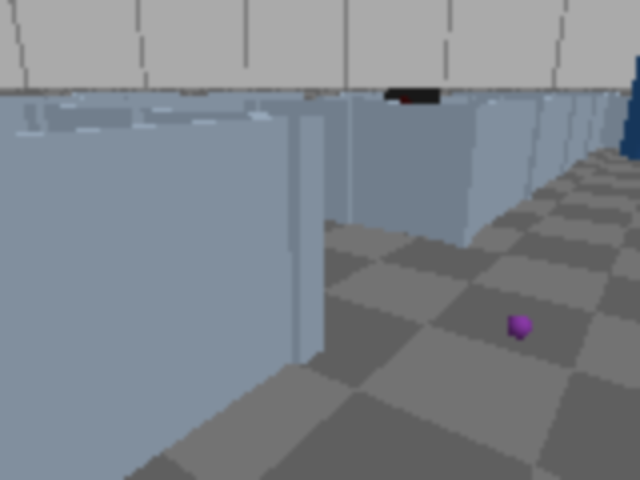person: (619, 0, 638, 161)
puck: (500, 310, 538, 344)
